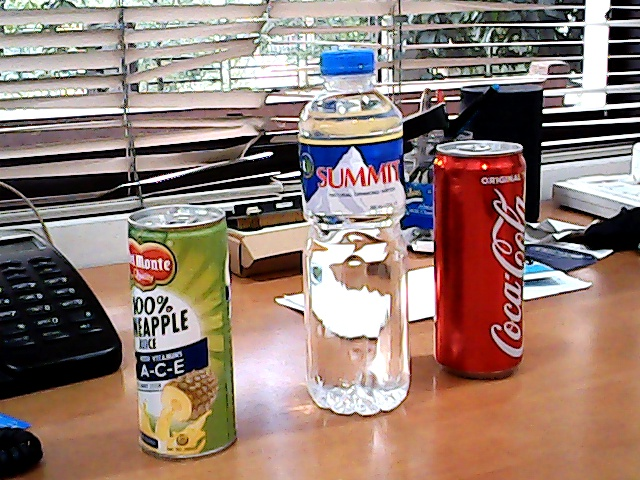Cola: (421, 129, 542, 392)
Pine Juice: (116, 192, 257, 469)
Summit Water: (286, 37, 423, 434)
